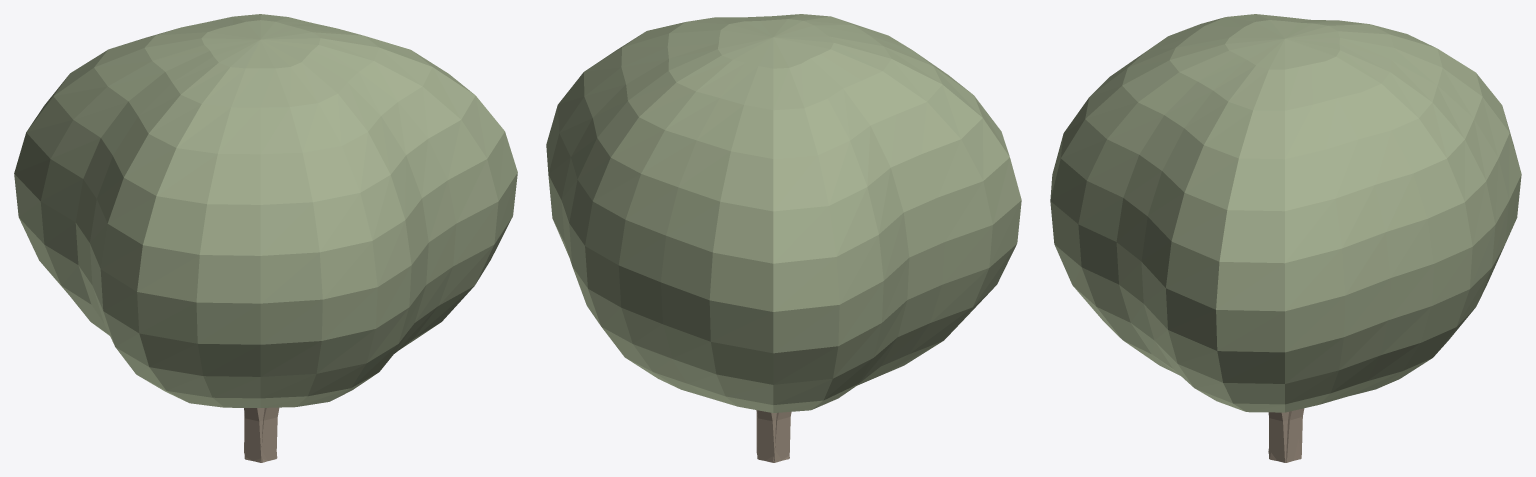
Rendered from olivo_0_L0.glb.
The picture shows the model from 3 angles, left to right: view 1: azimuth 30°, elevation 25°; view 2: azimuth 150°, elevation 25°; view 3: azimuth 270°, elevation 25°; orthographic projection.
Parts seen in each view (by area): view 1: copa, tronco; view 2: copa, tronco; view 3: copa, tronco.
Boxes of the visible parts, x1,y1,x2,y2 form: copa: [14, 14, 517, 407]; tronco: [244, 407, 279, 462]; copa: [546, 14, 1021, 412]; tronco: [756, 410, 791, 462]; copa: [1050, 14, 1521, 412]; tronco: [1268, 408, 1304, 462].
Bounding box in the file's own units: 4.18 × 4 × 4.1.
